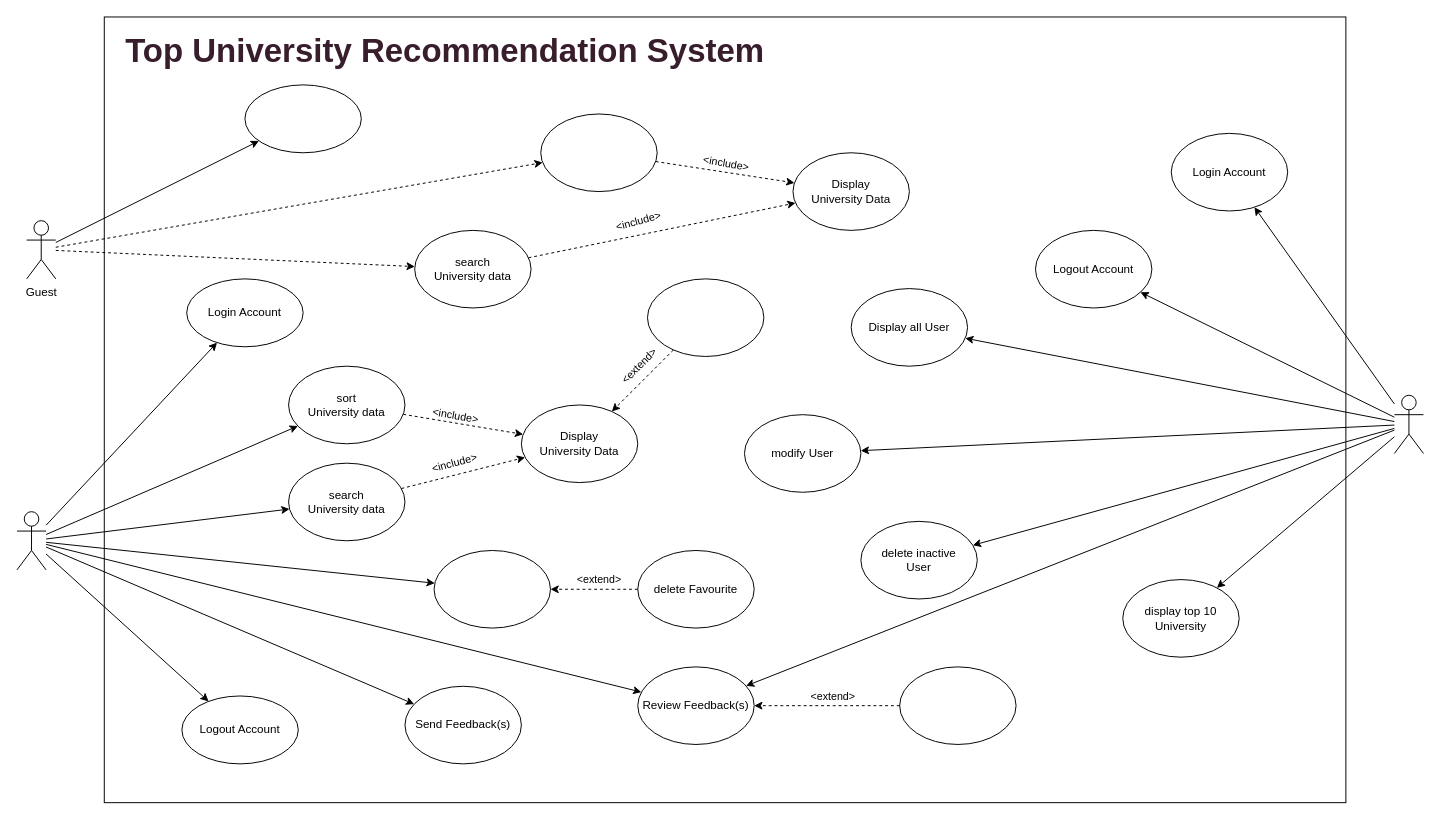
This 1442x820 diagram has some shape labels left out. Here are the shapes that lost their labels. From the top down, the box of each, then its label:
(244, 84, 361, 153): Register Account
(540, 113, 657, 192): sort University data (name only)
(647, 278, 764, 356): add to Favourite
(1393, 394, 1423, 453): Admin
(16, 511, 46, 570): User
(433, 550, 550, 628): show Favourite University
(899, 666, 1016, 744): Reply Feedback(s)
